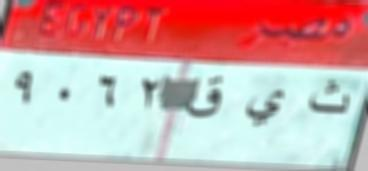0: (58, 74, 74, 111)
2: (136, 70, 162, 110)
6: (94, 72, 120, 111)
9: (13, 68, 35, 108)
qaaf: (183, 69, 227, 126)
thaa: (309, 75, 354, 124)
yaa: (235, 83, 287, 133)
